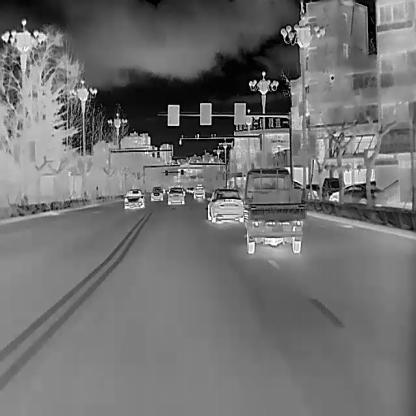car: (242, 167, 307, 253), (329, 183, 387, 206), (207, 188, 244, 223), (123, 188, 144, 210), (322, 177, 345, 197), (166, 186, 186, 205), (305, 183, 320, 198), (150, 186, 163, 202), (192, 184, 205, 199)
